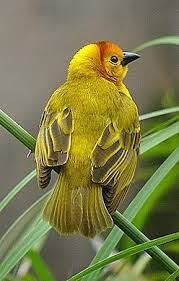target: (28, 38, 150, 245)
